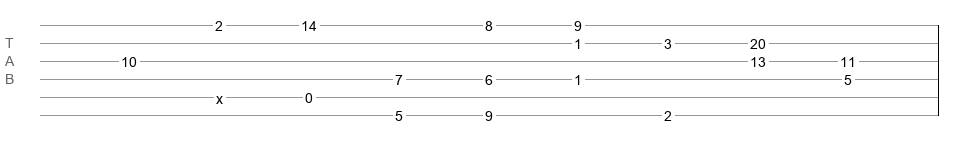0: (305, 90, 313, 100)
1: (574, 72, 582, 82), (574, 36, 582, 46)
10: (121, 54, 137, 64)
11: (840, 54, 856, 64)
13: (750, 54, 766, 64)
14: (301, 18, 317, 28)
2: (215, 18, 223, 28), (664, 108, 672, 118)
20: (750, 36, 766, 46)
3: (664, 36, 672, 46)
5: (395, 108, 403, 118), (844, 72, 852, 82)
6: (485, 72, 493, 82)
7: (395, 72, 403, 82)
8: (485, 18, 493, 28)
9: (485, 108, 493, 118), (574, 18, 582, 28)
x: (216, 91, 223, 99)
